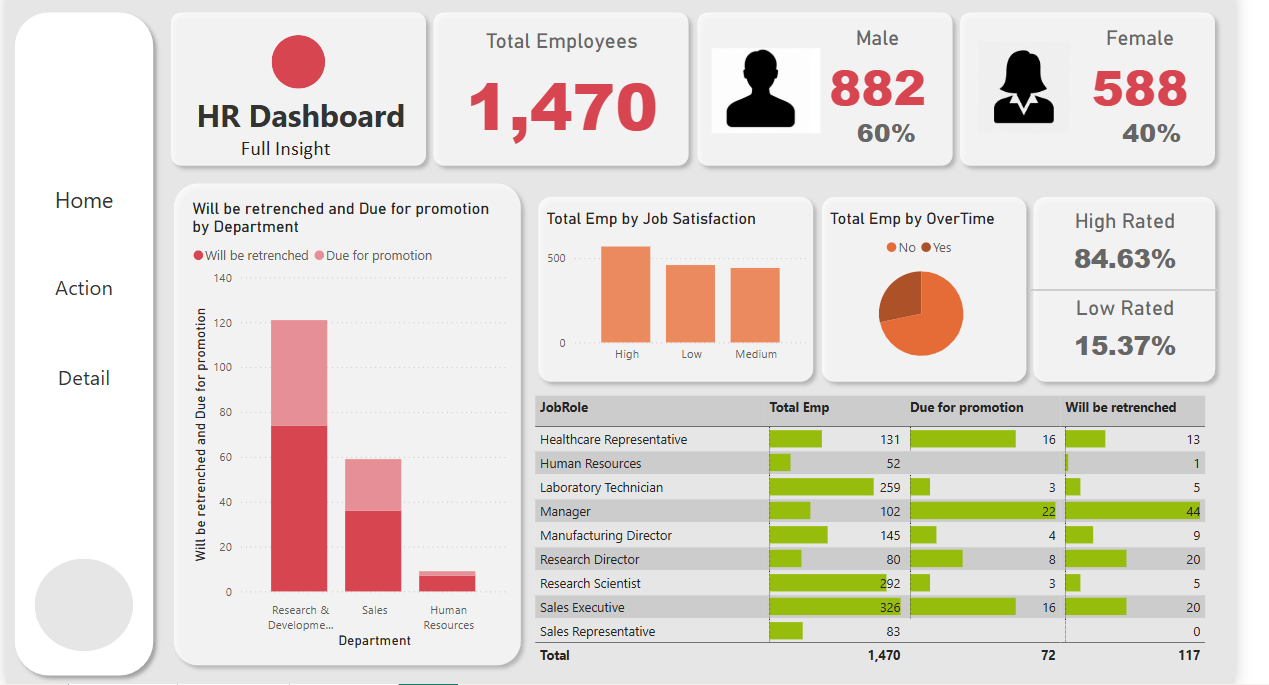

What the dashboard file says about the page in this screenshot:
{"tool":"powerbi","page":{"name":"Home","canvas":[1280,720],"ordinal":0},"visuals":[{"type":"shape","box":[0,0,162.6,709.6],"z":0},{"type":"shape","box":[162.6,10.9,284.5,178.2],"z":1000},{"type":"shape","box":[984.7,10.9,284.5,178.2],"z":2000},{"type":"shape","box":[711.2,10.9,284.5,178.2],"z":3000},{"type":"shape","box":[436.1,10.9,284.5,178.2],"z":4000},{"type":"shape","box":[162.6,189.1,357.9,520.5],"z":5000},{"type":"shape","box":[520.5,189.1,340.7,286],"z":6000},{"type":"shape","box":[520.5,475.1,340.7,231.3],"z":7000},{"type":"shape","box":[861.2,189.1,253.2,165.7],"z":8000},{"type":"shape","box":[1114.4,189.1,154.7,165.7],"z":9000},{"type":"shape","box":[861.2,359.5,407.9,347],"z":10000},{"type":"textbox","box":[178.2,100,257.9,61],"z":11000},{"type":"textbox","box":[226.6,143.8,129.7,45.3],"z":12000},{"type":"shape","box":[276.6,43.8,56.3,56.3],"z":13000},{"type":"card","title":"Total Employees","fields":{"Values":["All Measures.Total Emp"]},"box":[456.4,34.4,242.3,126.6],"z":14000},{"type":"card","title":"Male","fields":{"Values":["All Measures.Male"]},"box":[840.9,34.4,134.4,96.9],"z":15000},{"type":"card","title":"Male","fields":{"Values":["All Measures.% male"]},"box":[850.3,125,134.4,42.2],"z":16000},{"type":"card","title":"Female","fields":{"Values":["All Measures.Female"]},"box":[1114.4,34.4,134.4,96.9],"z":17000},{"type":"card","title":"Male","fields":{"Values":["All Measures.% female"]},"box":[1126.9,125,134.4,42.2],"z":18000},{"type":"image","box":[729.9,42.2,123.5,118.8],"z":19000},{"type":"image","box":[1006.6,34.4,107.8,126.6],"z":20000},{"type":"card","title":"Due for promotion","fields":{"Values":["All Measures.Due for promotion"]},"box":[186,232.9,314.2,154.7],"z":21000},{"type":"card","fields":{"Values":["All Measures.% Due for promotion"]},"box":[268.8,359.5,167.2,54.7],"z":22000},{"type":"card","title":"Not Due","fields":{"Values":["All Measures.Not due"]},"box":[186,464.2,314.2,154.7],"z":23000},{"type":"card","fields":{"Values":["All Measures.% Not due"]},"box":[268.8,590.8,167.2,56.3],"z":24000},{"type":"shape","box":[178.2,434.5,322,15.6],"z":25000},{"type":"barChart","title":"Service Year","fields":{"Category":["HR Analytics Data.Service year"],"Y":["All Measures.Total Emp"]},"box":[534.5,215.7,315.7,245.4],"z":26000},{"type":"columnChart","fields":{"Category":["HR Analytics Data.Job Levels"],"Y":["All Measures.Total Emp"]},"box":[539.2,492.3,306.3,198.5],"z":27000},{"type":"card","title":"On Service","fields":{"Values":["All Measures.On service"]},"box":[872.1,204.8,231.3,92.2],"z":28000},{"type":"card","title":"Male","fields":{"Values":["All Measures.% On service"]},"box":[926.9,297,134.4,42.2],"z":29000},{"type":"card","title":"Retreanched","fields":{"Values":["All Measures.Will be retreanched"]},"box":[1123.8,204.8,137.5,92.2],"z":30000},{"type":"card","title":"Male","fields":{"Values":["All Measures.% Will be retreanched"]},"box":[1134.7,297,134.4,42.2],"z":31000},{"type":"donutChart","fields":{"Category":["HR Analytics Data.Distance status"],"Y":["All Measures.Total Emp"]},"box":[883.1,376.7,365.7,314.2],"z":32000},{"type":"actionButton","box":[21.9,272,118.8,67.2],"z":33000},{"type":"actionButton","box":[21.9,181.3,118.8,67.2],"z":34000},{"type":"actionButton","box":[21.9,359.5,118.8,79.7],"z":35000},{"type":"shape","box":[29.7,589.2,103.2,96.9],"z":35001}]}

Visuals, with their boxes on the page's 1280x720 design canvas (x1, y1, x2, y2). These are canvas units, not pixel positions in the 1269x685 screenshot, which may show the page scaled, cropped or inside an application window:
shape: pyautogui.locateOnScreen(0, 0, 163, 710)
shape: pyautogui.locateOnScreen(163, 11, 447, 189)
shape: pyautogui.locateOnScreen(985, 11, 1269, 189)
shape: pyautogui.locateOnScreen(711, 11, 996, 189)
shape: pyautogui.locateOnScreen(436, 11, 721, 189)
shape: pyautogui.locateOnScreen(163, 189, 520, 710)
shape: pyautogui.locateOnScreen(520, 189, 861, 475)
shape: pyautogui.locateOnScreen(520, 475, 861, 706)
shape: pyautogui.locateOnScreen(861, 189, 1114, 355)
shape: pyautogui.locateOnScreen(1114, 189, 1269, 355)
shape: pyautogui.locateOnScreen(861, 360, 1269, 706)
textbox: pyautogui.locateOnScreen(178, 100, 436, 161)
textbox: pyautogui.locateOnScreen(227, 144, 356, 189)
shape: pyautogui.locateOnScreen(277, 44, 333, 100)
"Total Employees" card: pyautogui.locateOnScreen(456, 34, 699, 161)
"Male" card: pyautogui.locateOnScreen(841, 34, 975, 131)
"Male" card: pyautogui.locateOnScreen(850, 125, 985, 167)
"Female" card: pyautogui.locateOnScreen(1114, 34, 1249, 131)
"Male" card: pyautogui.locateOnScreen(1127, 125, 1261, 167)
image: pyautogui.locateOnScreen(730, 42, 853, 161)
image: pyautogui.locateOnScreen(1007, 34, 1114, 161)
"Due for promotion" card: pyautogui.locateOnScreen(186, 233, 500, 388)
card - All Measures.% Due for promotion: pyautogui.locateOnScreen(269, 360, 436, 414)
"Not Due" card: pyautogui.locateOnScreen(186, 464, 500, 619)
card - All Measures.% Not due: pyautogui.locateOnScreen(269, 591, 436, 647)
shape: pyautogui.locateOnScreen(178, 434, 500, 450)
"Service Year" barChart: pyautogui.locateOnScreen(534, 216, 850, 461)
columnChart - HR Analytics Data.Job Levels x All Measures.Total Emp: pyautogui.locateOnScreen(539, 492, 846, 691)
"On Service" card: pyautogui.locateOnScreen(872, 205, 1103, 297)
"Male" card: pyautogui.locateOnScreen(927, 297, 1061, 339)
"Retreanched" card: pyautogui.locateOnScreen(1124, 205, 1261, 297)
"Male" card: pyautogui.locateOnScreen(1135, 297, 1269, 339)
donutChart - HR Analytics Data.Distance status x All Measures.Total Emp: pyautogui.locateOnScreen(883, 377, 1249, 691)
actionButton: pyautogui.locateOnScreen(22, 272, 141, 339)
actionButton: pyautogui.locateOnScreen(22, 181, 141, 248)
actionButton: pyautogui.locateOnScreen(22, 360, 141, 439)
shape: pyautogui.locateOnScreen(30, 589, 133, 686)
